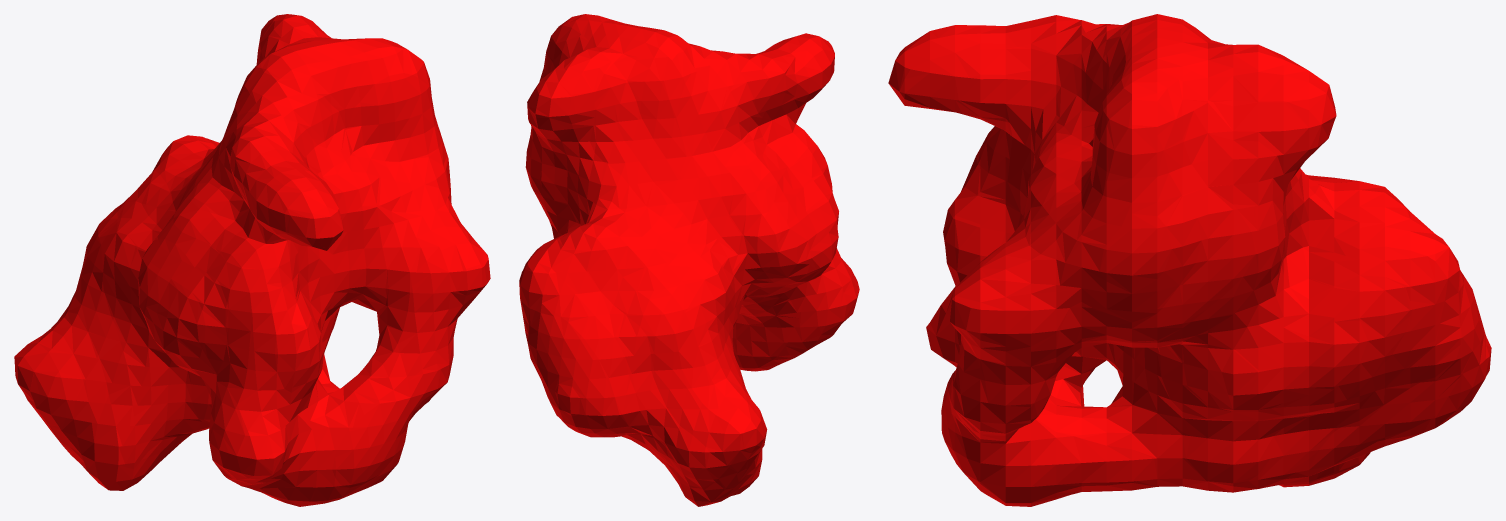
File: trmO_coarse.dae
The picture shows the model from 3 angles, left to right: view 1: azimuth 30°, elevation 25°; view 2: azimuth 150°, elevation 25°; view 3: azimuth 270°, elevation 25°; orthographic projection. The views are drawn at different scales.
Parts seen in each view (by area): view 1: trmO; view 2: trmO; view 3: trmO.
Boxes of the visible parts, x1=… form: trmO: x1=14, y1=14, x2=490, y2=506; trmO: x1=519, y1=14, x2=859, y2=506; trmO: x1=888, y1=14, x2=1491, y2=506.
Bounding box in the file's own units: 47.15 × 59.59 × 60.78.
